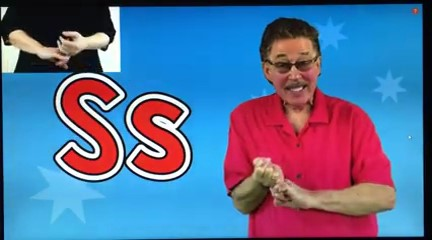S: (234, 150, 310, 217)
